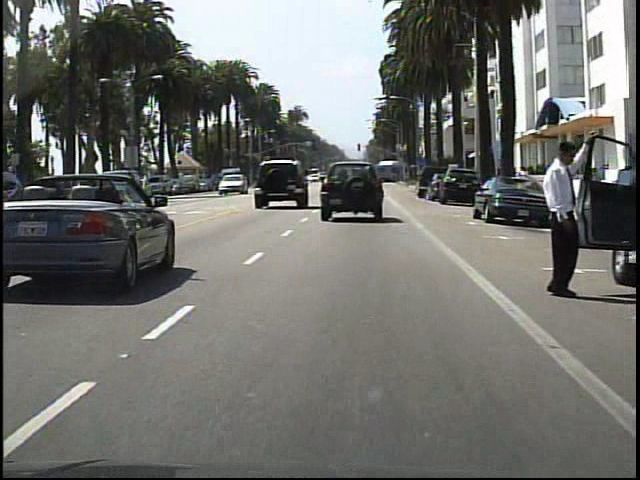person: (528, 121, 596, 310)
